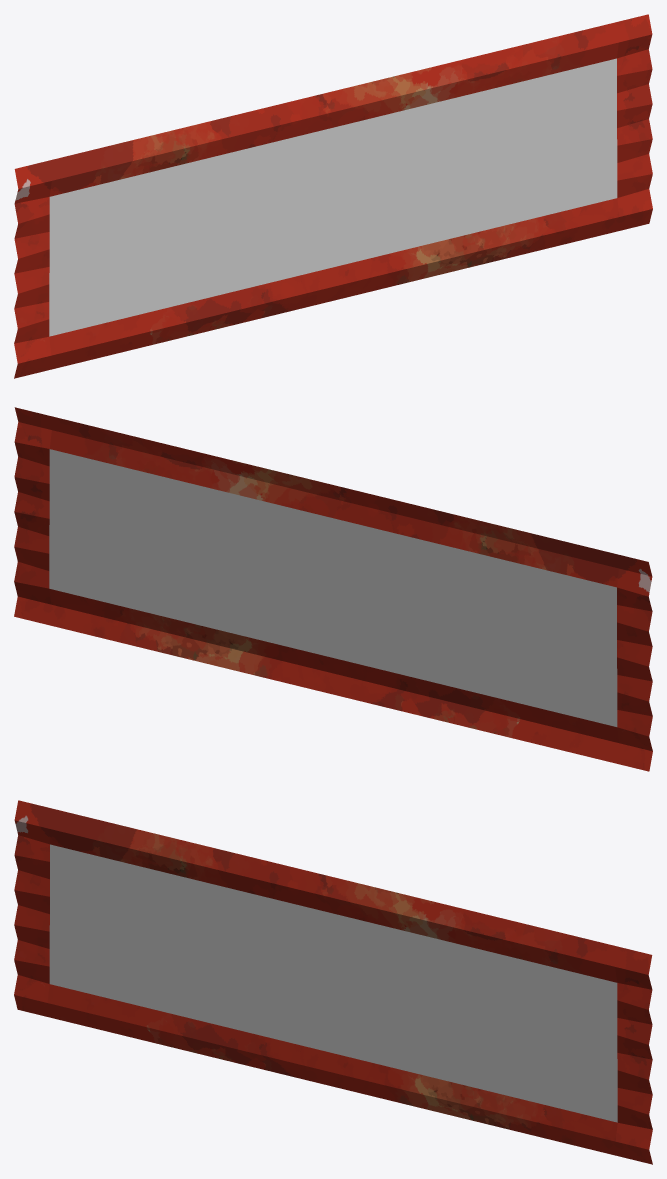
The model's file is UIPanel.fbx.
The picture shows the model from 3 angles, top to bottom: view 1: azimuth 30°, elevation 25°; view 2: azimuth 150°, elevation 25°; view 3: azimuth 330°, elevation 25°; orthographic projection.
Parts seen in each view (by area): view 1: PanelOuter; view 2: PanelOuter; view 3: PanelOuter.
Boxes of the visible parts, x1=… form: PanelOuter: x1=14, y1=14, x2=652, y2=378; PanelOuter: x1=14, y1=407, x2=652, y2=771; PanelOuter: x1=14, y1=800, x2=652, y2=1164.
Bounding box in the file's own units: 635 × 200 × 6.35.
